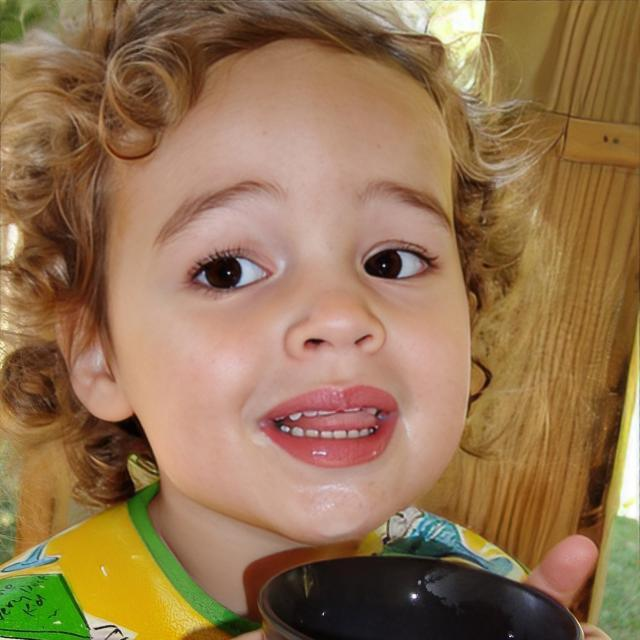surprise: (102, 33, 474, 547)
